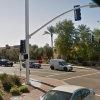Traffic light: (70, 3, 91, 33)
